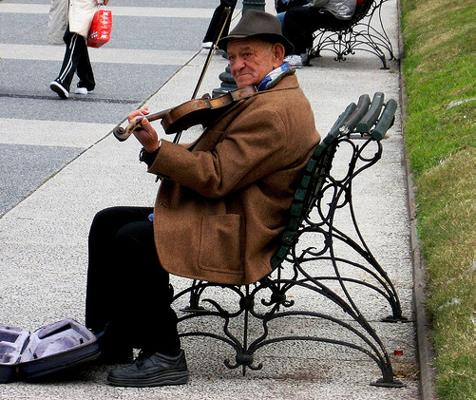person: (85, 10, 323, 389)
